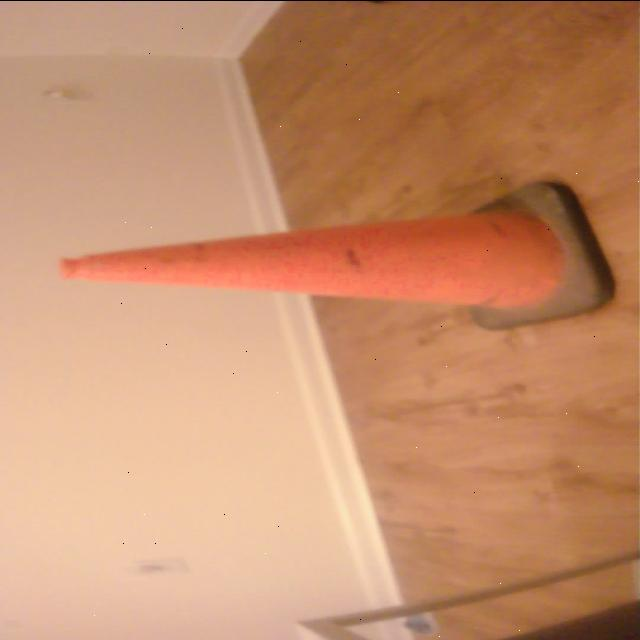traffic cone: (53, 173, 626, 337)
